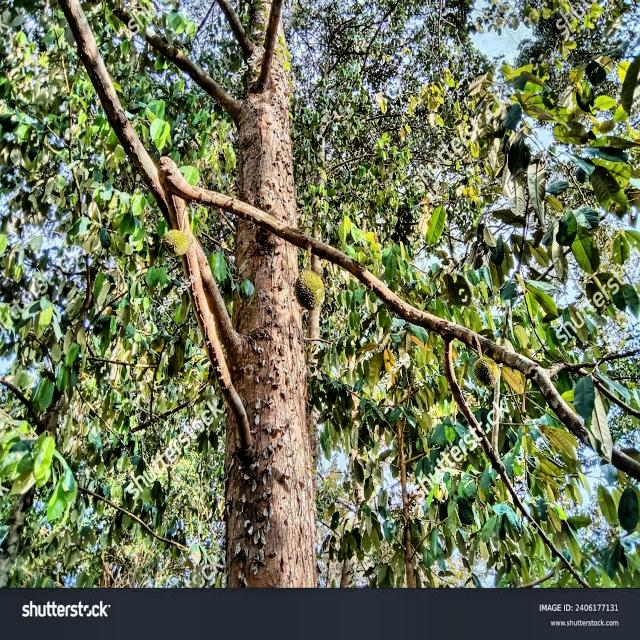arvore: (204, 0, 328, 586)
